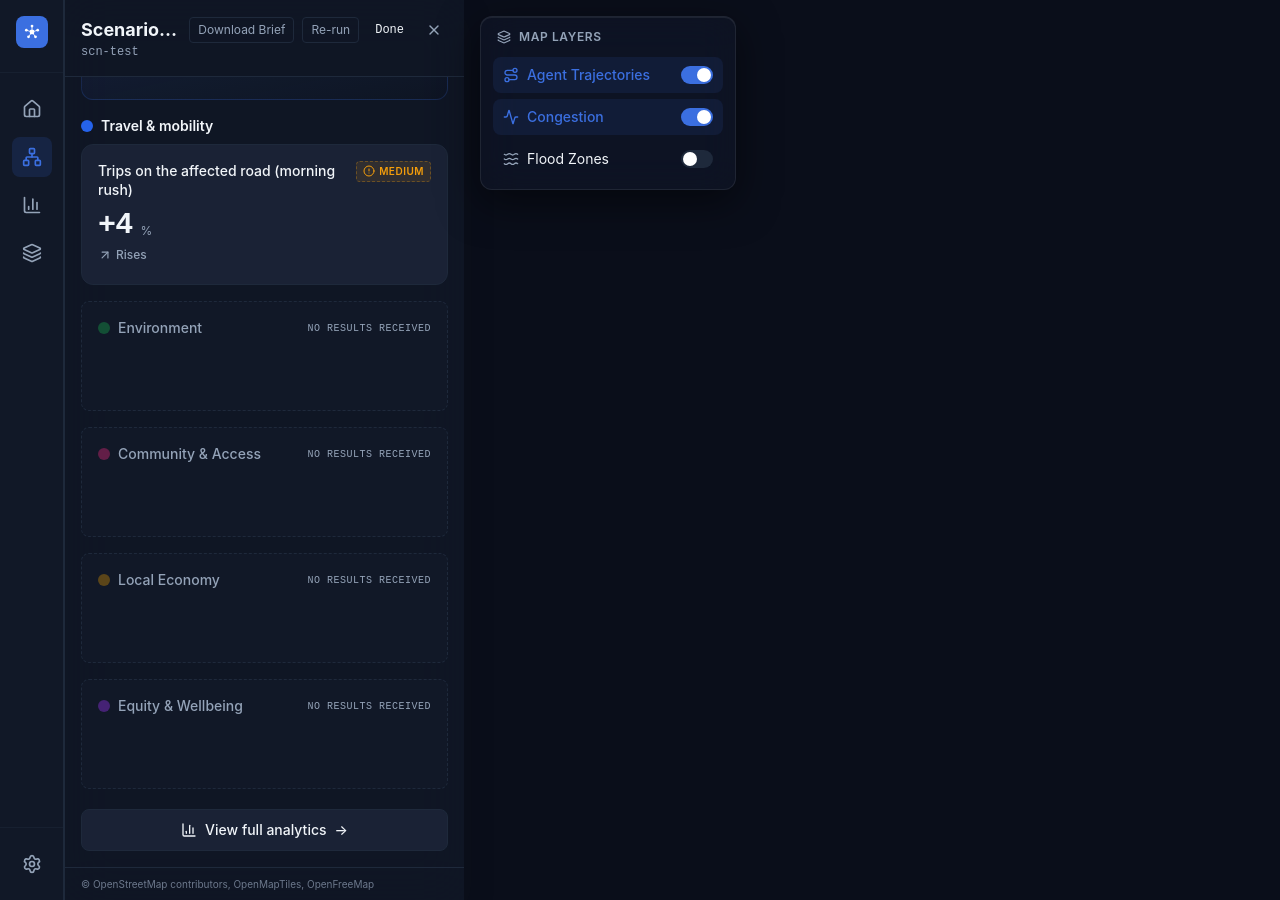
Provenance wiring: synthesis citations → InspectDrawer › clicking a citation chip opens the InspectDrawer on the matching result
The width and height of the screenshot is (1280, 900).
(page scrolled)
Click the button "View full analytics →".
click(264, 830)  # box [81, 809, 448, 851]
(page scrolled)
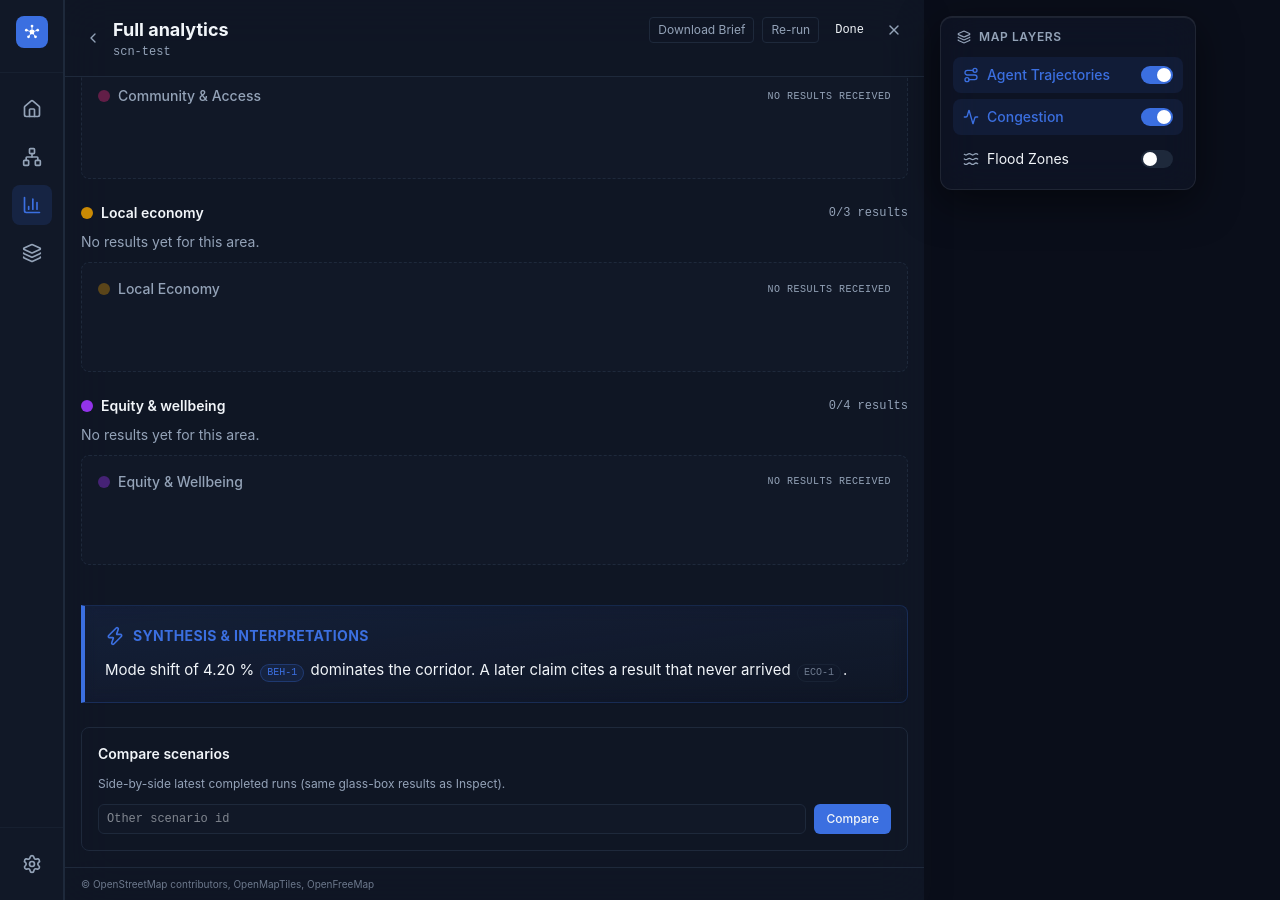
Click the button with test id "cite-BEH-1".
click(282, 673)  # box [260, 664, 304, 682]
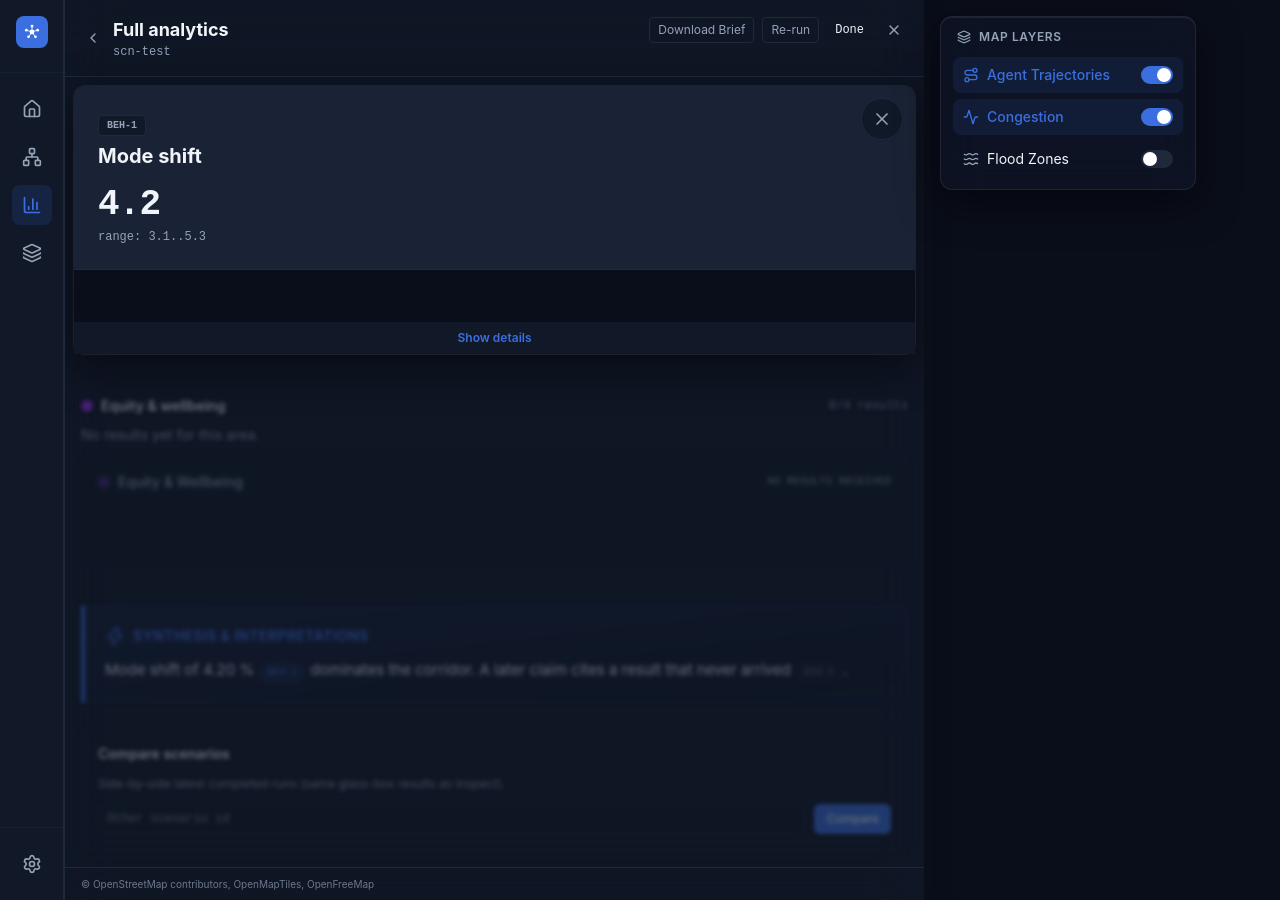
Result: the text "BEH-1" is shown at [98, 115, 146, 136]
Result: the heading "Mode shift" is shown at [98, 144, 202, 168]
Click the button "Show details".
click(494, 338)  # box [74, 322, 915, 354]
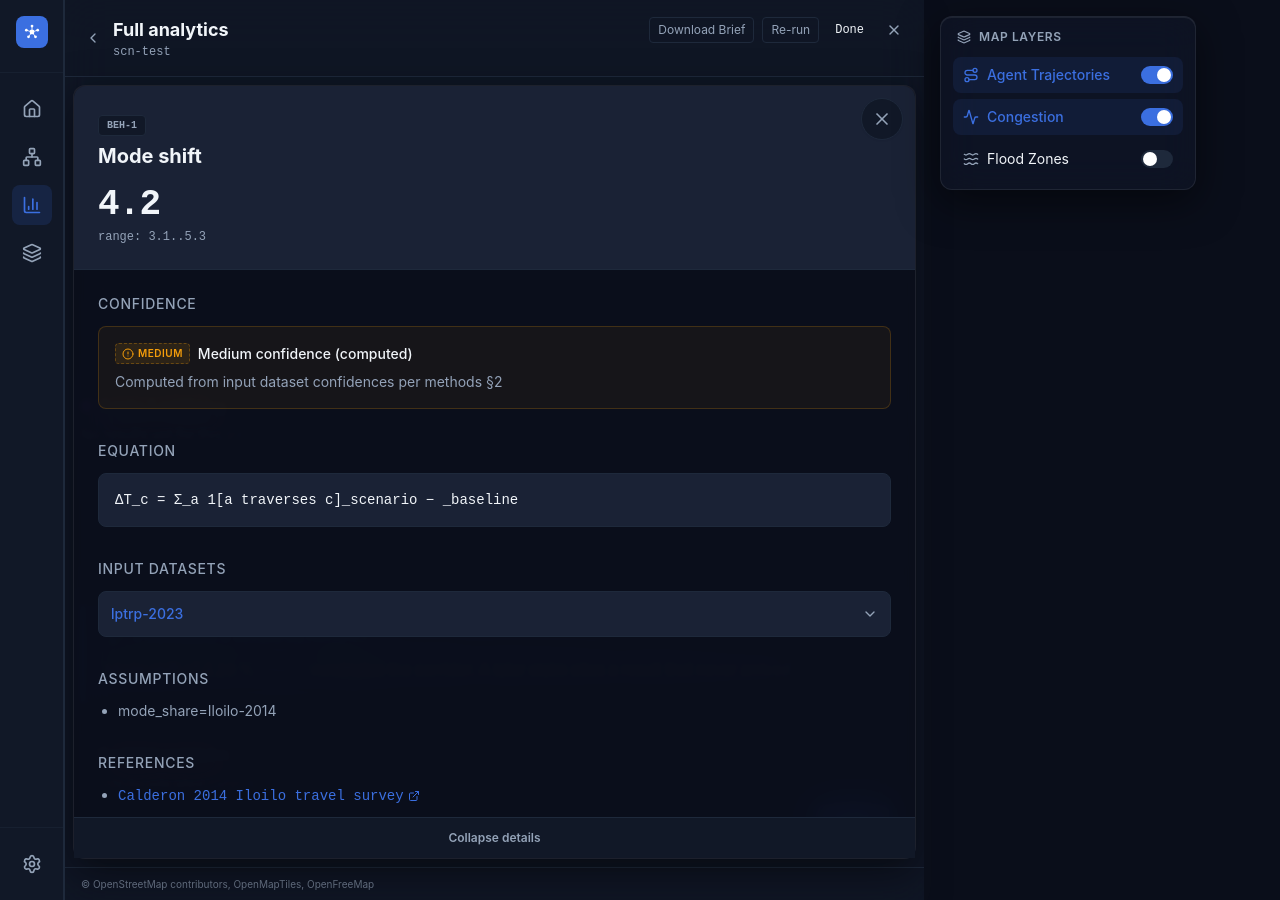
Result: the button with test id "dataset-row-lptrp-2023" is shown at [99, 592, 890, 636]
